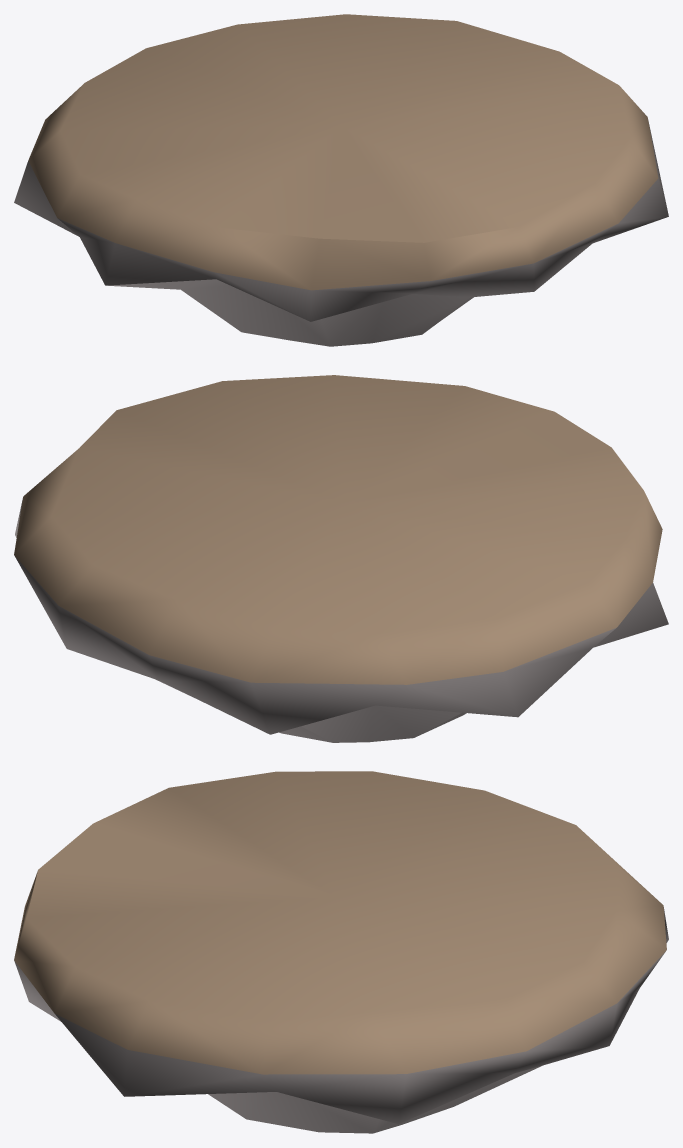
File: Schwebestein_6.fbx
The picture shows the model from 3 angles, top to bottom: view 1: azimuth 30°, elevation 25°; view 2: azimuth 150°, elevation 25°; view 3: azimuth 270°, elevation 25°; orthographic projection. The views are drawn at different scales.
Visible parts, largest first — view 1: Schwebestein_6; view 2: Schwebestein_6; view 3: Schwebestein_6.
Part boxes in pixels (x1,y1,x2,y2): Schwebestein_6: [14, 14, 668, 346]; Schwebestein_6: [14, 375, 668, 742]; Schwebestein_6: [14, 771, 668, 1133].
Size of the model in its own units: 1513 by 552 by 1460.
